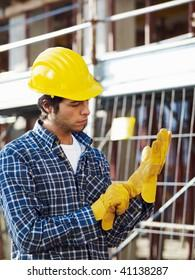gloves: (130, 123, 172, 205), (92, 181, 134, 230)
